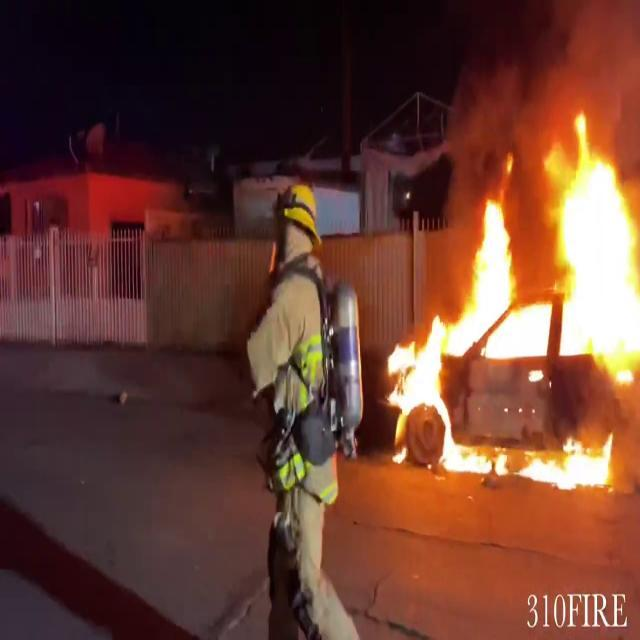Fire: (380, 105, 640, 484), (515, 431, 623, 493)
